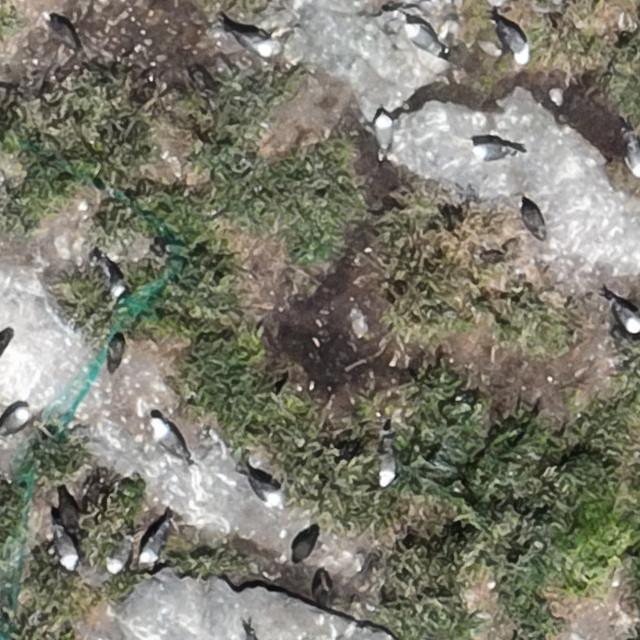umineko: (151, 418, 190, 461), (142, 523, 171, 563), (504, 27, 529, 61), (240, 37, 277, 58), (250, 476, 278, 502), (614, 303, 638, 333), (3, 406, 30, 432), (58, 534, 78, 568), (110, 542, 132, 572), (409, 26, 435, 51), (375, 115, 391, 150), (378, 457, 395, 487), (475, 141, 504, 158), (628, 143, 639, 177)
